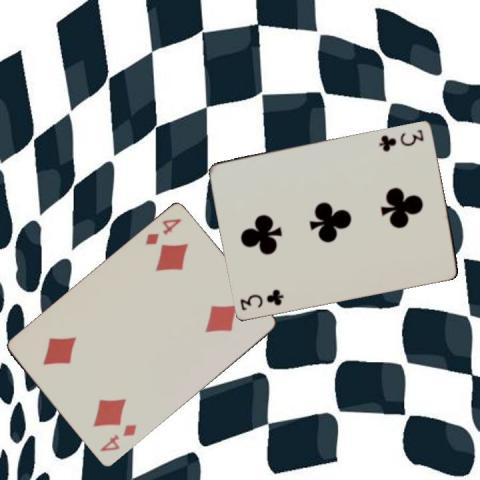3c: (376, 126, 425, 153), (238, 287, 286, 311)
4d: (96, 422, 138, 454), (142, 216, 183, 248)
